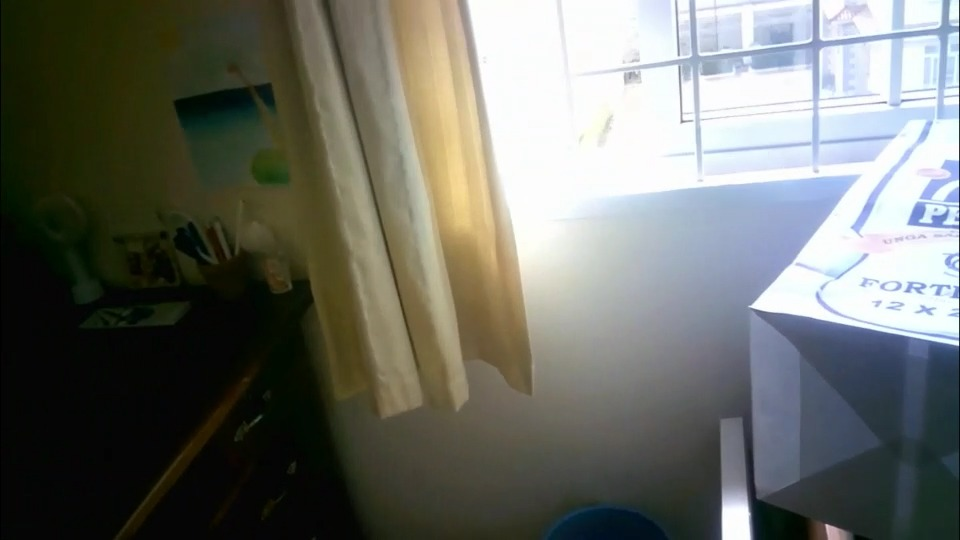wheat_flour_blue_label: (742, 120, 960, 538)
